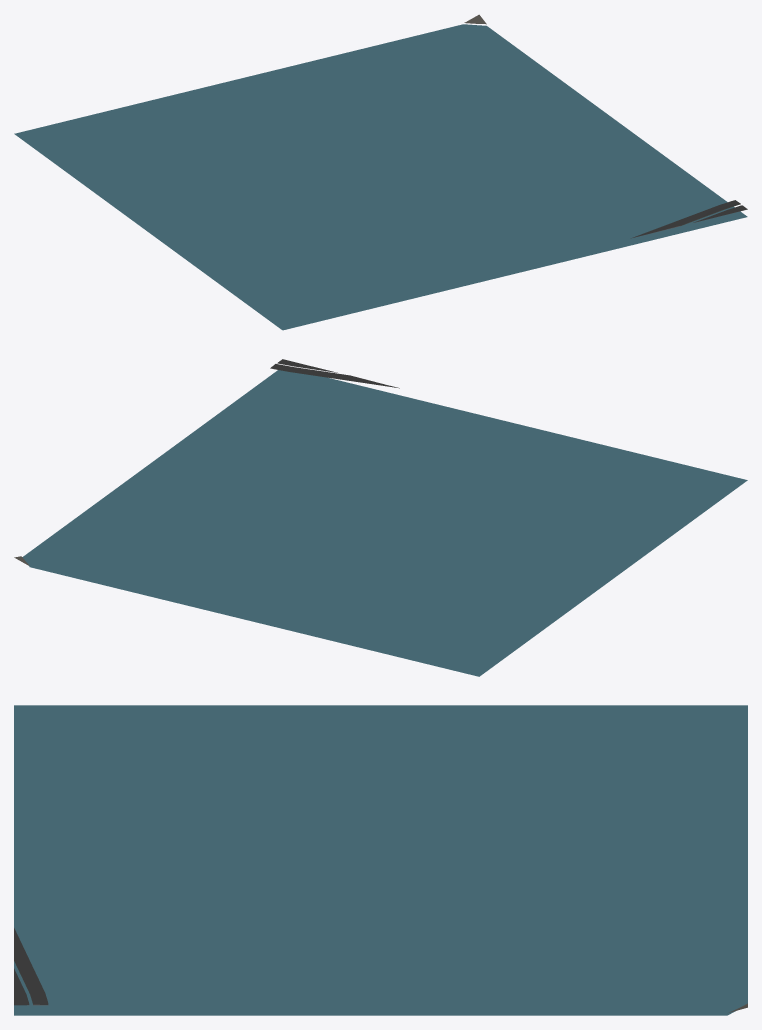
3 renders of one model, top to bottom at view 1: azimuth 30°, elevation 25°; view 2: azimuth 150°, elevation 25°; view 3: azimuth 270°, elevation 25°, orthographic. The views are drawn at different scales.
Visible parts, largest first — view 1: c_p05_m09; view 2: c_p05_m09; view 3: c_p05_m09.
Boxes of the visible parts, <box> form: c_p05_m09: <box>14,14,747,330</box>; c_p05_m09: <box>14,359,747,676</box>; c_p05_m09: <box>14,705,747,1015</box>.
Size of the model in its own units: 128 by 2.13 by 128.
